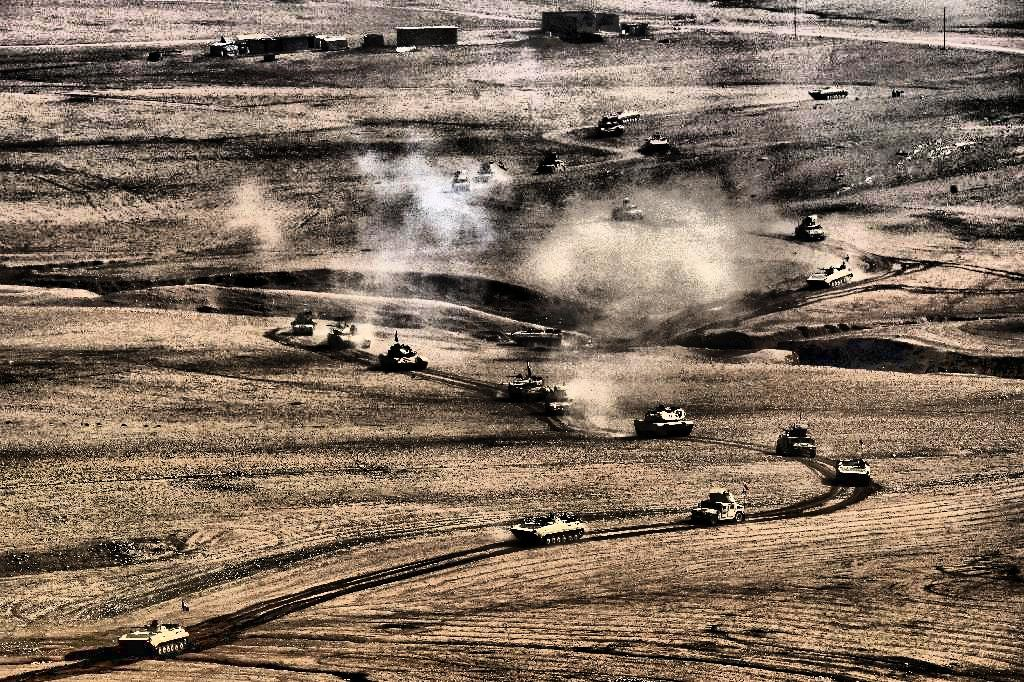military-vehicle: (511, 509, 588, 551), (687, 487, 752, 529), (120, 619, 188, 657), (632, 407, 694, 442), (390, 337, 441, 373), (802, 260, 857, 291), (508, 367, 550, 407), (773, 427, 820, 459), (324, 322, 372, 350), (831, 457, 874, 484), (793, 212, 830, 241)
